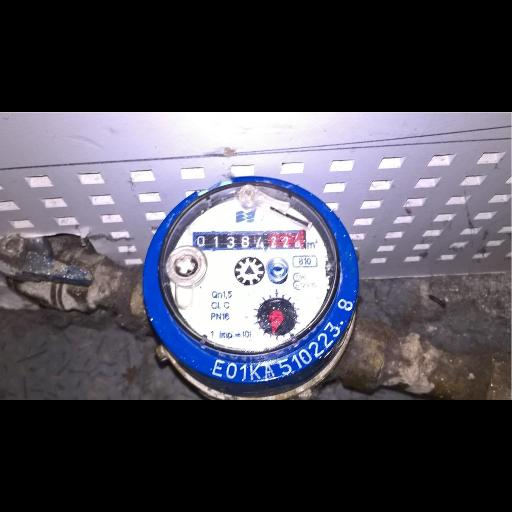0: (196, 234, 209, 249)
1: (208, 234, 222, 249)
2: (266, 233, 281, 249), (280, 233, 292, 249)
3: (222, 233, 238, 249)
4: (253, 234, 267, 251)
7: (292, 233, 304, 249)
8: (237, 233, 253, 249)
border_water_meter_number: (192, 230, 306, 252)
